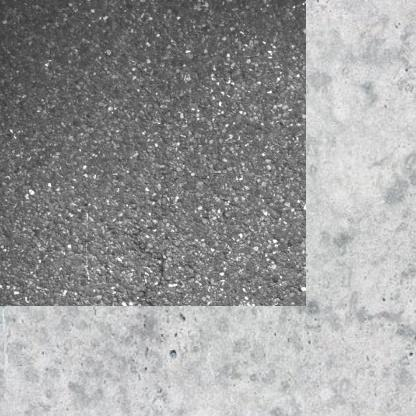Cracks: (115, 215, 156, 283)
